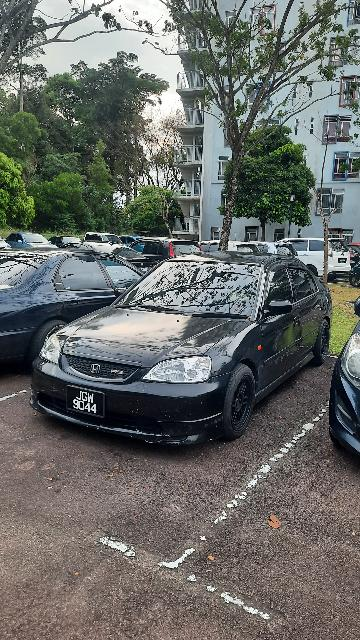License_Plate: (68, 383, 112, 426)
car: (32, 249, 332, 447)
